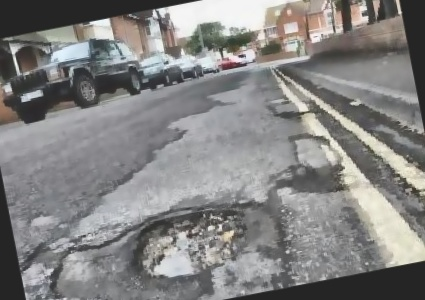pothole: (123, 196, 262, 288)
